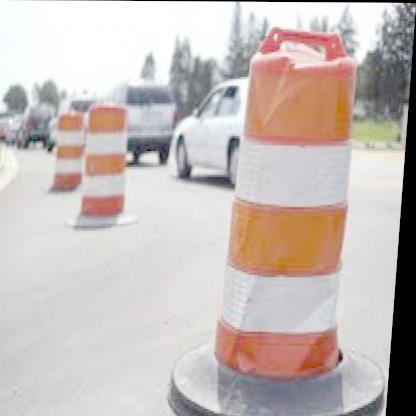obstacle: (206, 22, 374, 391), (81, 101, 139, 224), (50, 112, 88, 200)
